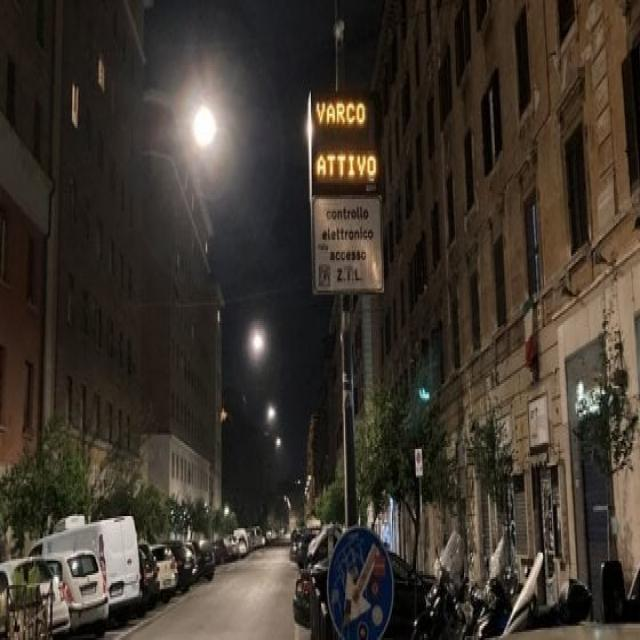lampione: (192, 101, 217, 152), (248, 318, 271, 366), (264, 400, 278, 426), (273, 431, 284, 454)
